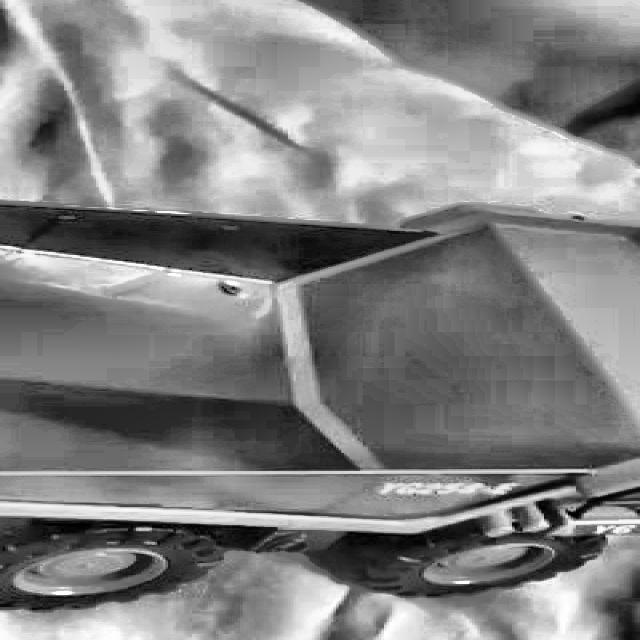dump_truck: (0, 172, 640, 626)
